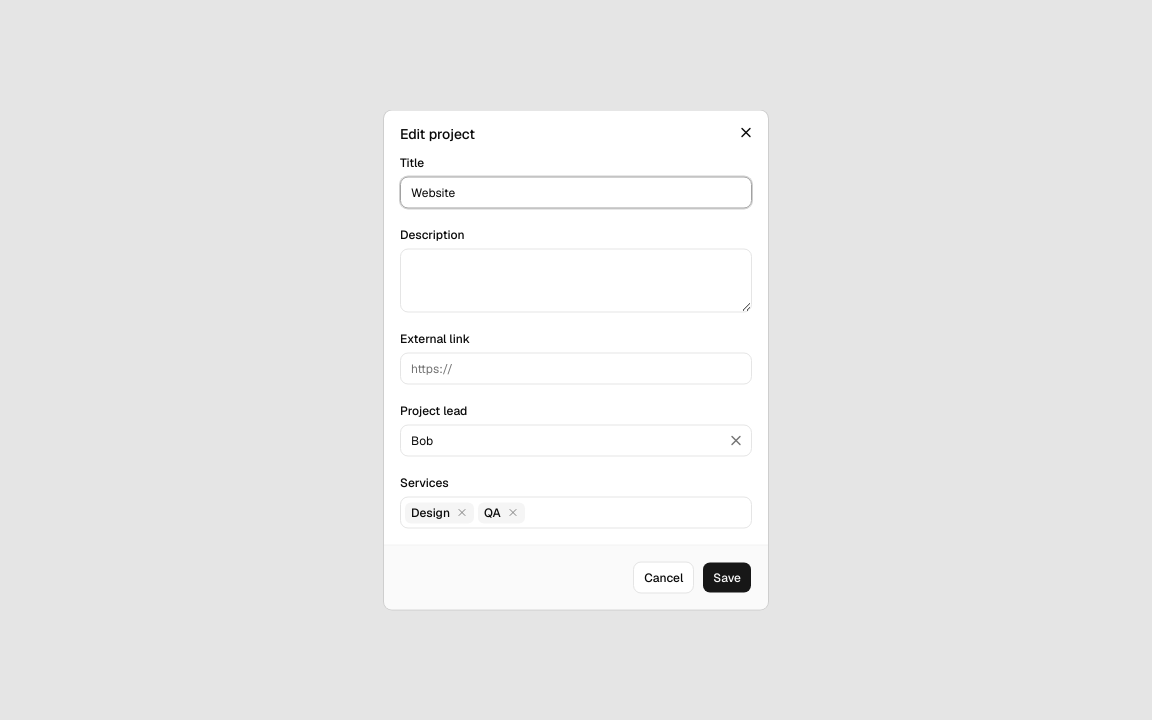
Test: Project services (feat-prj-services) › AC-16 FR-PRJ-009 SCR-022: a 400 on services shows under Services and the dialog stays open
Click the button "Save" at point(727, 578), box [702,562,752,594]
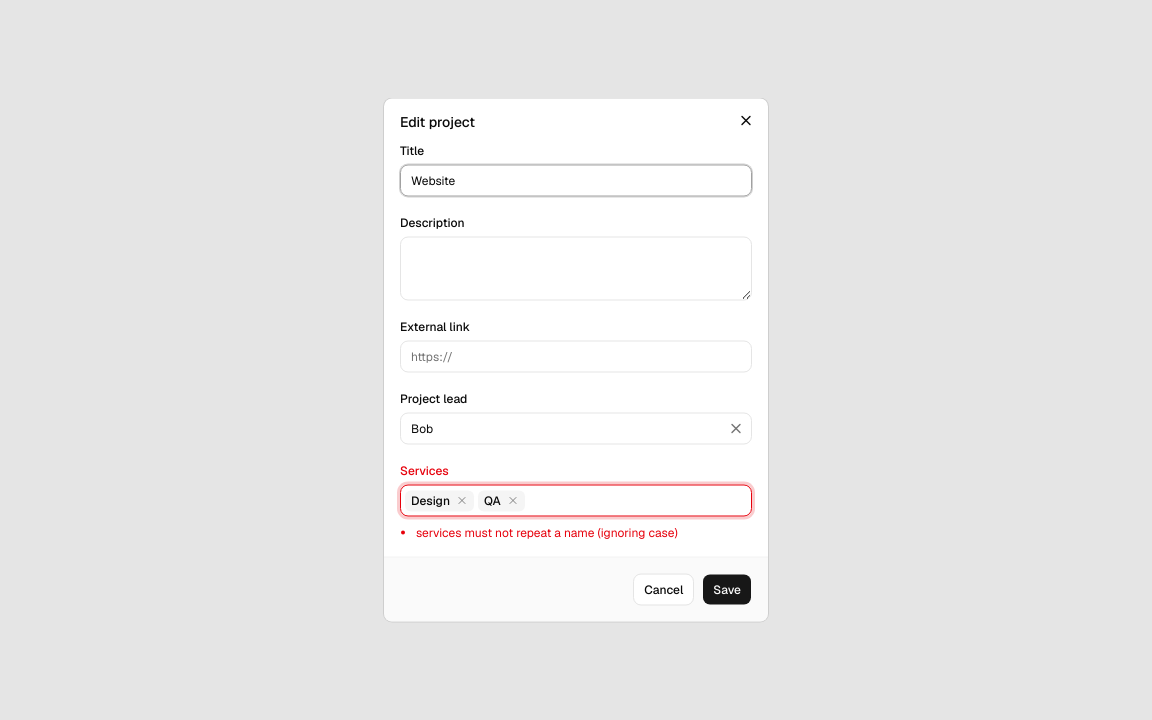
Expected: the list item "services must not repeat a name (ignoring case)" is shown, [416,524,678,540]
